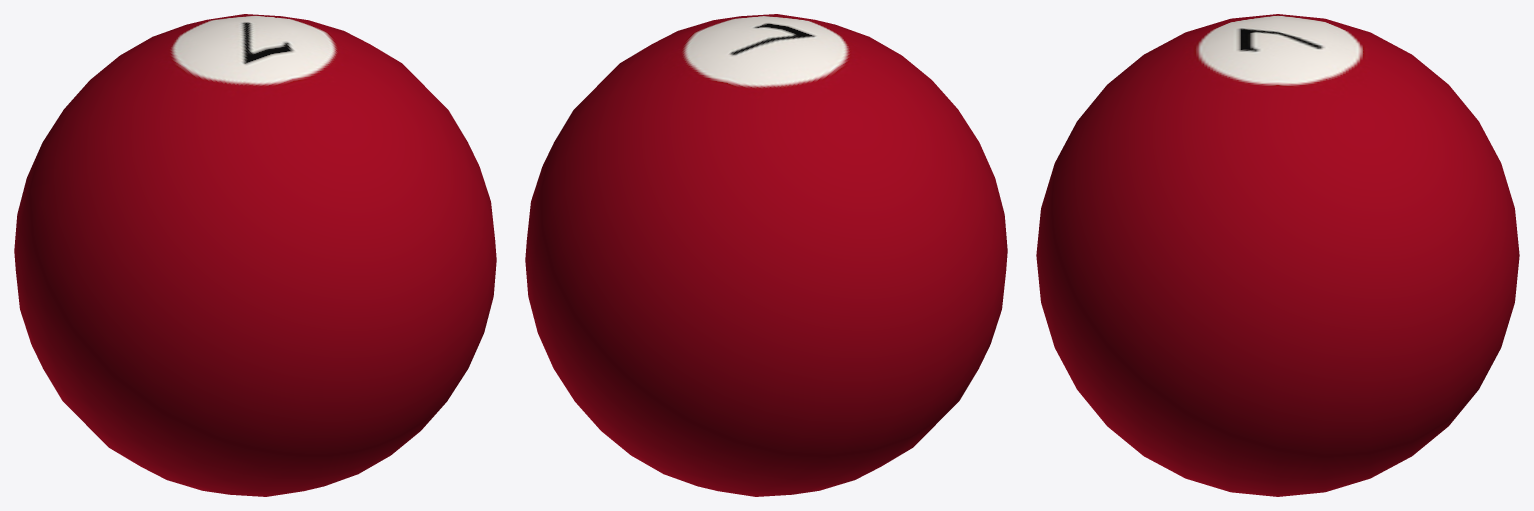
Rendered from Billiard Ball 7.glb.
3 renders of one model, left to right at view 1: azimuth 30°, elevation 25°; view 2: azimuth 150°, elevation 25°; view 3: azimuth 270°, elevation 25°, orthographic.
Parts seen in each view (by area): view 1: Ball7_13 - Default_0; view 2: Ball7_13 - Default_0; view 3: Ball7_13 - Default_0.
Part boxes in pixels (left/top/right/bottom): Ball7_13 - Default_0: left=14, top=14, right=496, bottom=496; Ball7_13 - Default_0: left=525, top=14, right=1007, bottom=496; Ball7_13 - Default_0: left=1036, top=14, right=1519, bottom=496.
Size of the model in its own units: 37.86 by 37.86 by 37.86.
Materials: 1 (1 with a texture image).
